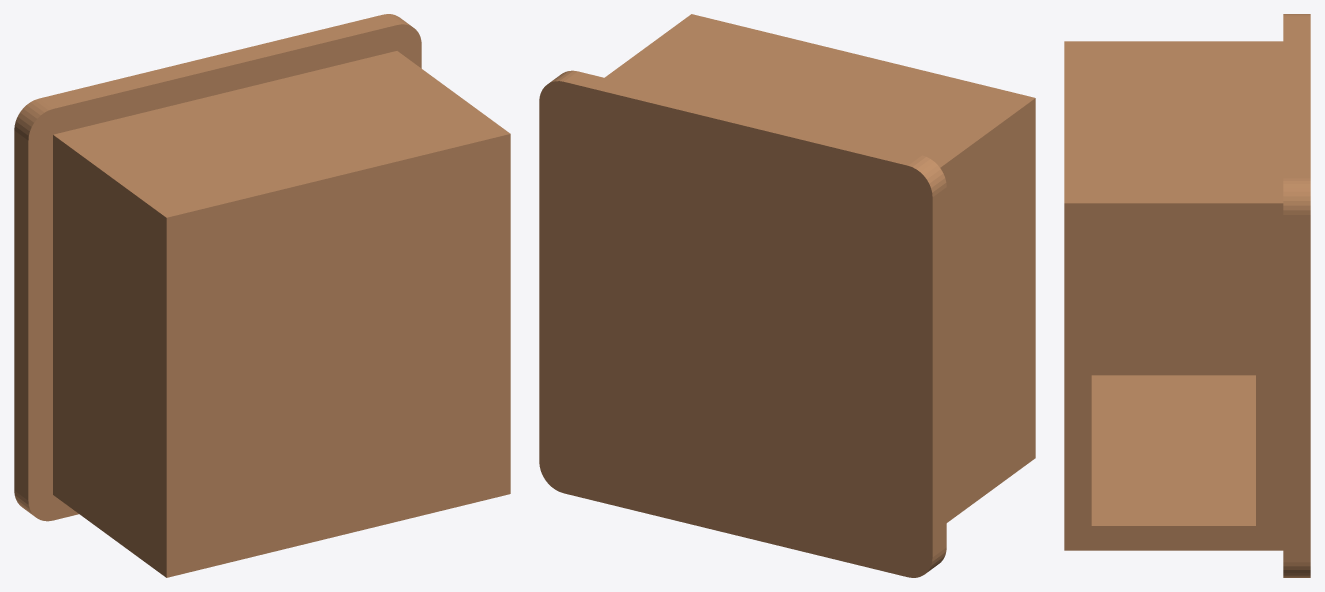
The picture shows the model from 3 angles, left to right: view 1: azimuth 30°, elevation 25°; view 2: azimuth 150°, elevation 25°; view 3: azimuth 270°, elevation 25°; orthographic projection. The views are drawn at different scales.
Visible parts, largest first — view 1: box; view 2: box; view 3: box.
Boxes of the visible parts, bbox=[...] form: box: bbox=[14, 14, 510, 577]; box: bbox=[539, 14, 1035, 577]; box: bbox=[1064, 14, 1310, 577].
Size of the model in its own units: 0.16 by 0.09 by 0.16.
